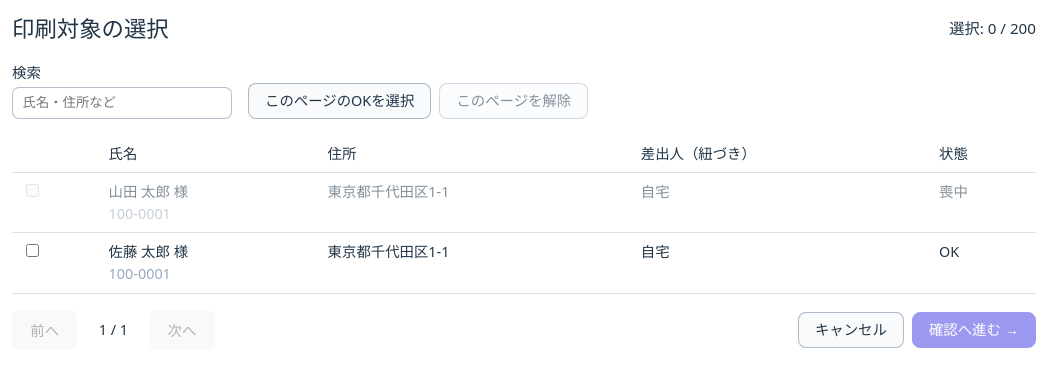
Test: PrintSelectPage mourning gate › marks mochu rows disabled and excludes them from page OK select
expect the text "喪中" is shown: met, box x1=929 y1=173 x2=1036 y2=233
expect the checkbox named "山田 太郎 を選択" is disabled: met, box x1=26 y1=184 x2=39 y2=197
Click the button "このページのOKを選択". click: (340, 101)
box: x1=248 y1=83 x2=431 y2=119
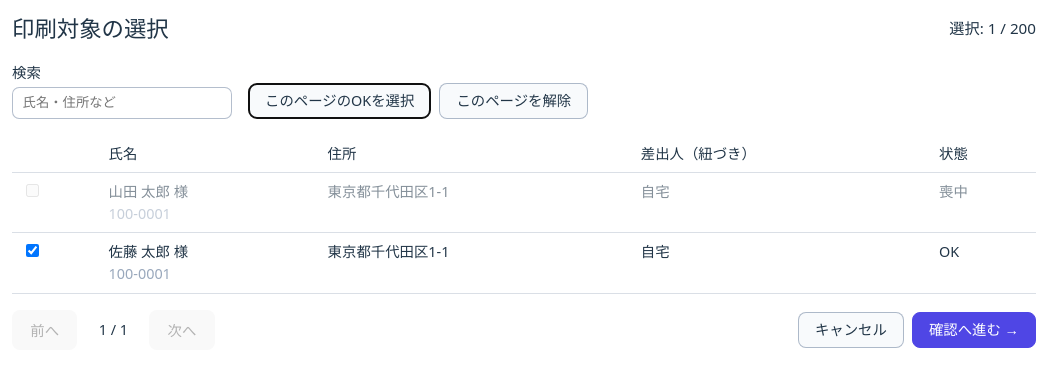
expect the checkbox named "山田 太郎 を選択" is not checked: met, box x1=26 y1=184 x2=39 y2=197
expect the checkbox named "佐藤 太郎 を選択" is checked: met, box x1=26 y1=244 x2=39 y2=257
expect the text "選択: 1 / 200" is shown: met, box x1=949 y1=17 x2=1036 y2=40
